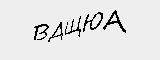А: (105, 9, 130, 32)
В: (34, 22, 49, 44)
Д: (51, 22, 64, 44)
Щ: (63, 14, 82, 38)
Ю: (81, 10, 102, 34)
